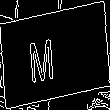M_N: (41, 27, 69, 83)
